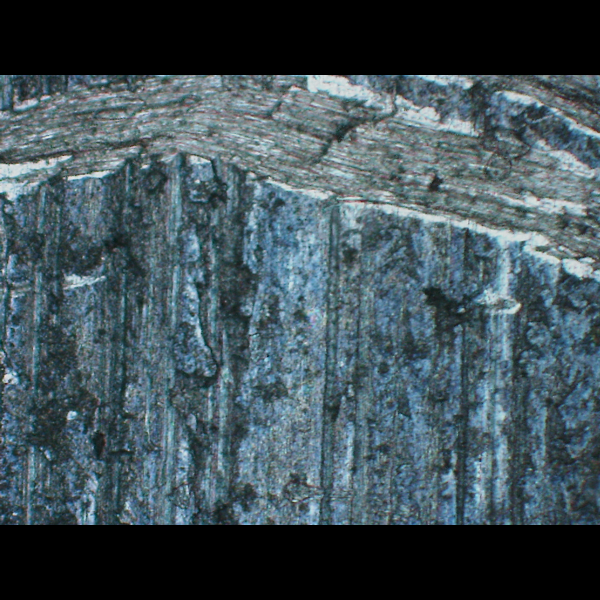d: (0, 75, 599, 295)
